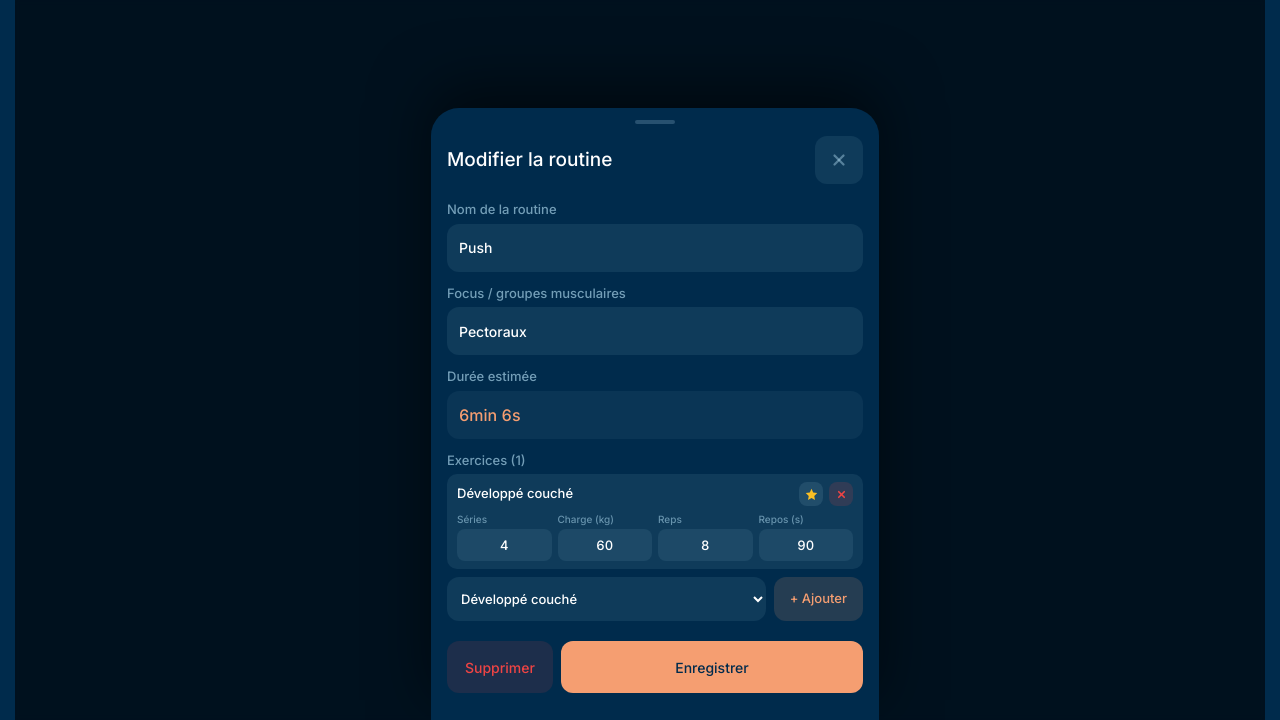
Scenario: RoutineEditorSheet — confirmation de suppression › reste sur la feuille et affiche l'erreur si la suppression échoue
Click the button "Supprimer" at (500, 667), box x1=447 y1=641 x2=553 y2=693
(page scrolled)
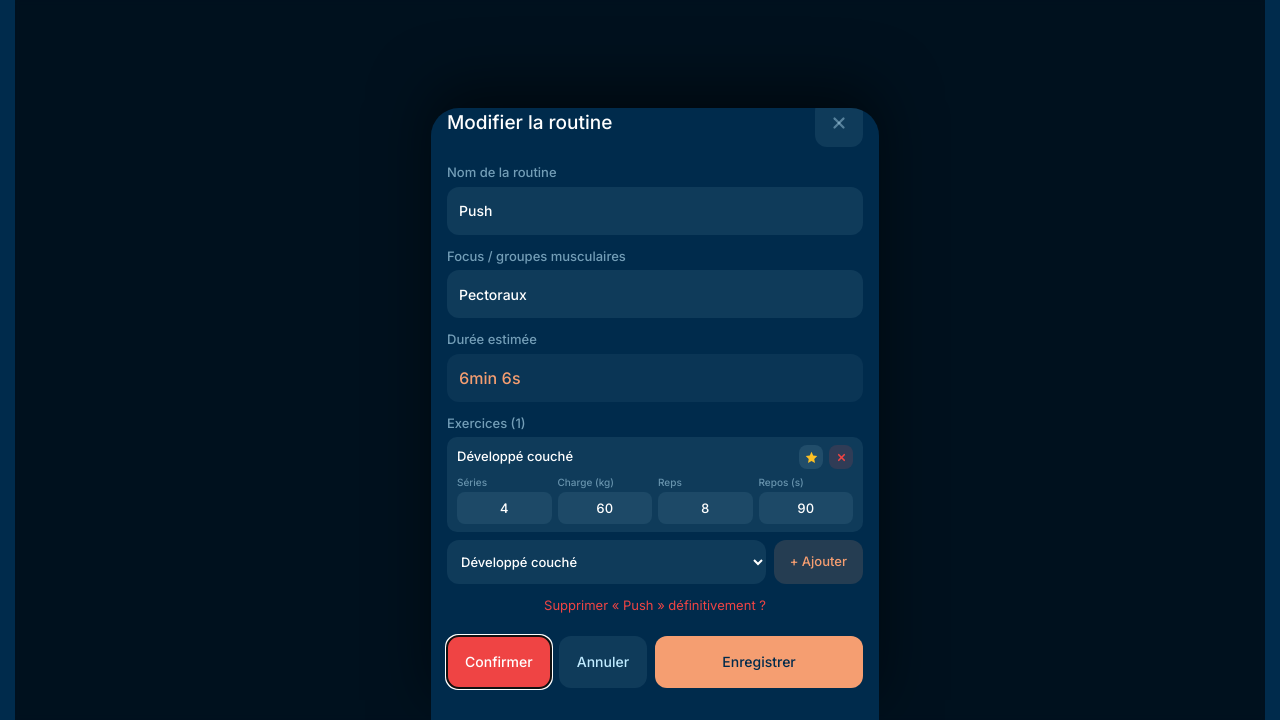
Click the button "Confirmer" at (499, 662), box x1=447 y1=636 x2=551 y2=688
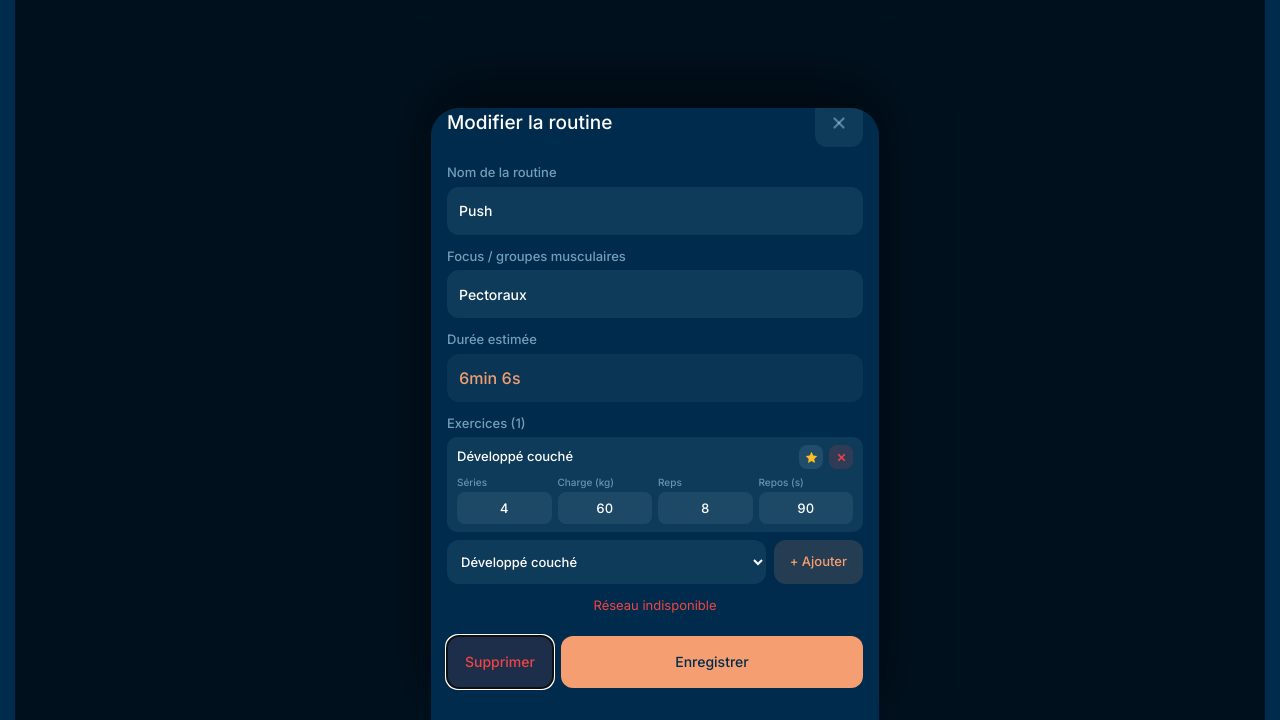
Result: the text "Réseau indisponible" is shown at x1=594 y1=597 x2=716 y2=613
Result: the button "Supprimer" is shown at x1=447 y1=636 x2=553 y2=688
